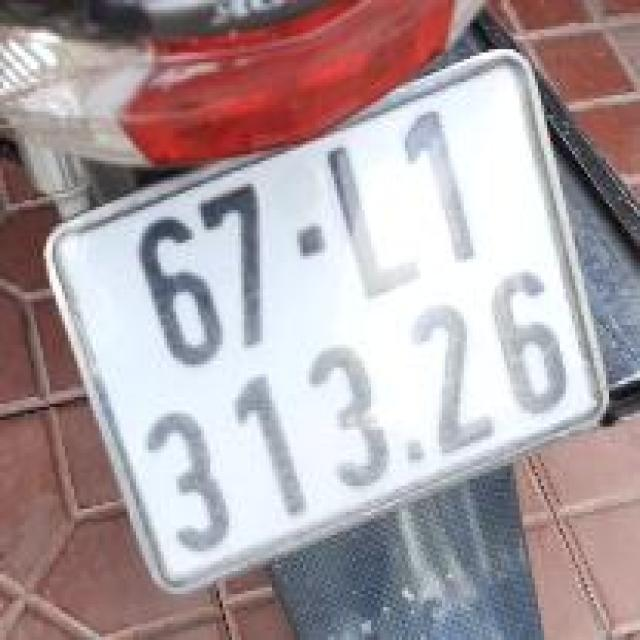1: (392, 86, 504, 270), (215, 356, 325, 525)
2: (396, 288, 510, 465)
3: (128, 385, 248, 569), (291, 321, 406, 503)
6: (123, 197, 241, 381), (471, 246, 588, 428)
7: (188, 166, 289, 352)
L: (313, 120, 433, 315)
